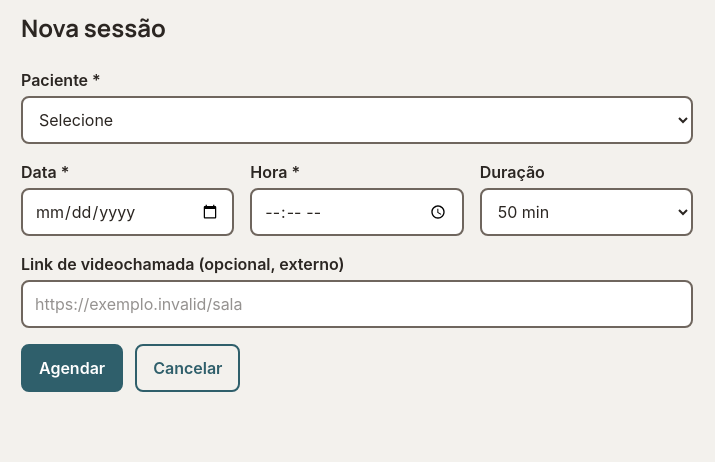
Test: Nova sessão (AGE-01, AGE-02, AGE-04, AGE-06, AGE-12) › campos obrigatórios e link fora de http(s) mostram erro e não enviam (AGE-01)
Click the button "Agendar" at coordinates (72, 368), box x1=21 y1=344 x2=123 y2=392
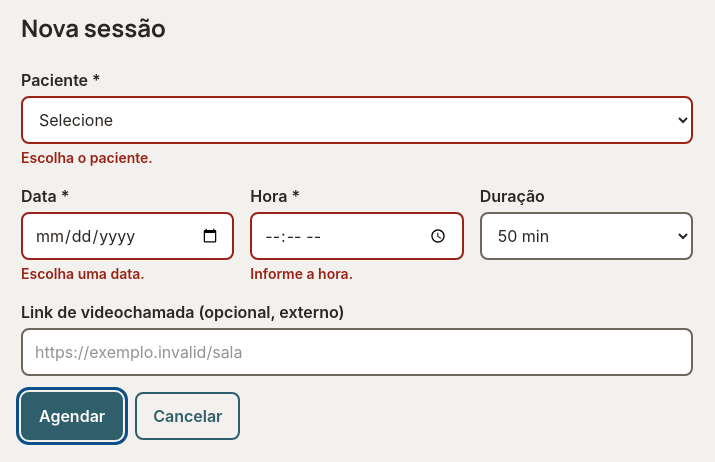
Expected: the text "Escolha o paciente." is shown, x1=21 y1=149 x2=153 y2=166
Expected: the text "Escolha uma data." is shown, x1=21 y1=265 x2=145 y2=282
Expected: the text "Informe a hora." is shown, x1=250 y1=265 x2=353 y2=282
Select "Ana Souza" in the dropdown labelled "Paciente *" at coordinates (357, 120), box x1=21 y1=96 x2=693 y2=144
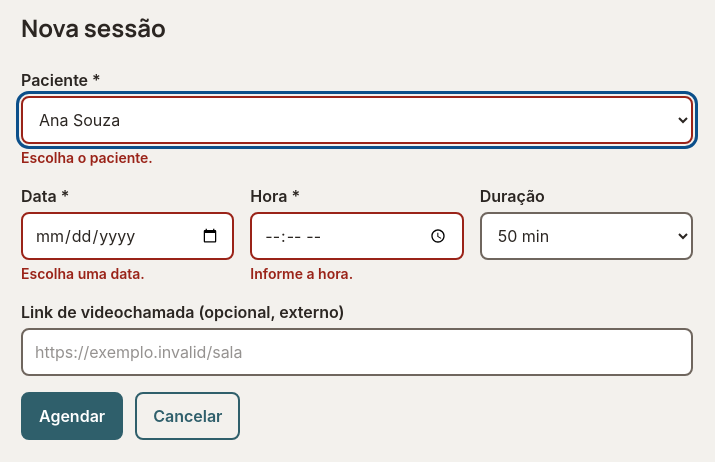
Type "2026-10-27" into the date field labelled "Data *" at coordinates (128, 236), box x1=21 y1=212 x2=234 y2=260
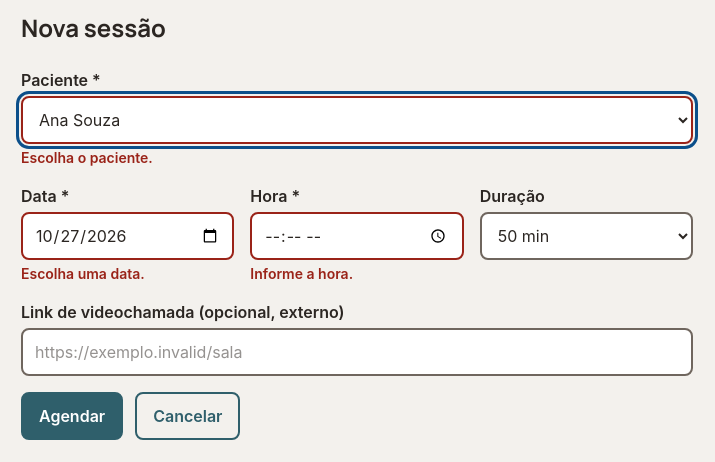
Type "09:00" into the time field labelled "Hora *" at coordinates (357, 236), box x1=250 y1=212 x2=464 y2=260
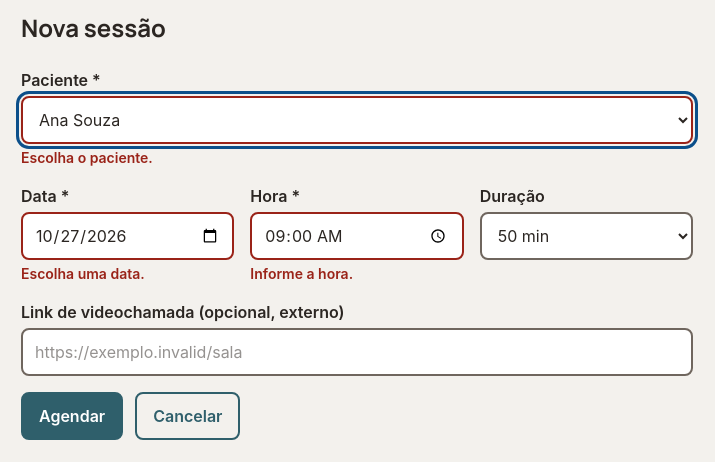
Type "ftp://x" into the field labelled "Link de videochamada (opcional, externo)" at coordinates (357, 352), box x1=21 y1=328 x2=693 y2=376
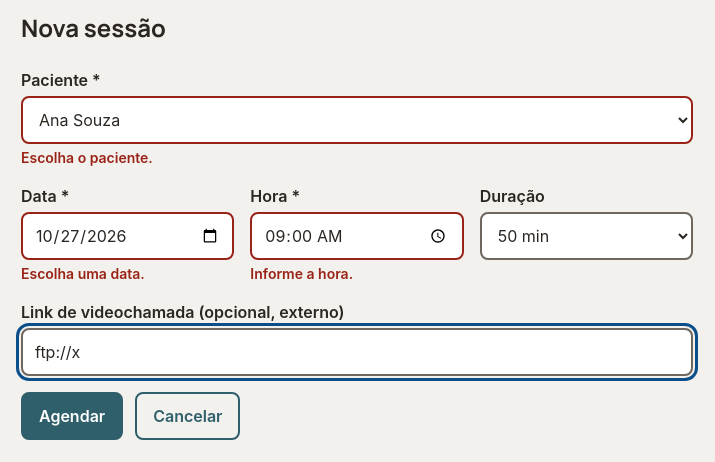
Click the button "Agendar" at coordinates (72, 416), box x1=21 y1=392 x2=123 y2=440
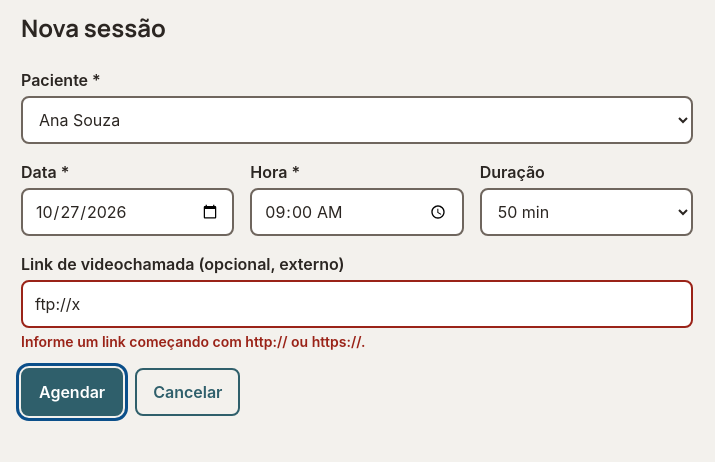
Expected: the text "Informe um link começando com http:// ou https://." is shown, x1=21 y1=333 x2=365 y2=350
